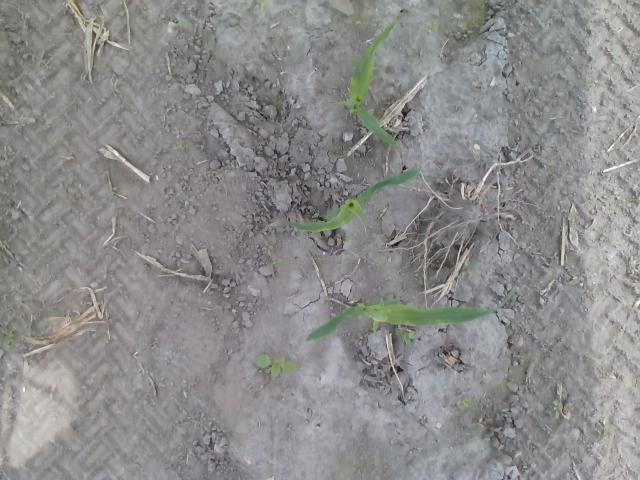Maize: (304, 286, 518, 342), (284, 166, 424, 234), (335, 12, 400, 148)
Weeds: (255, 353, 298, 377), (156, 140, 185, 153), (462, 260, 479, 276), (552, 400, 564, 420), (455, 394, 472, 407), (600, 426, 614, 441), (426, 18, 440, 32), (402, 332, 418, 344), (585, 75, 599, 88), (262, 241, 274, 256), (3, 330, 15, 344), (68, 193, 82, 204), (254, 0, 268, 10), (202, 42, 212, 54), (561, 30, 573, 38), (178, 22, 188, 30), (407, 59, 418, 66), (276, 31, 284, 40), (270, 258, 282, 264), (280, 436, 288, 444), (343, 238, 351, 244)
